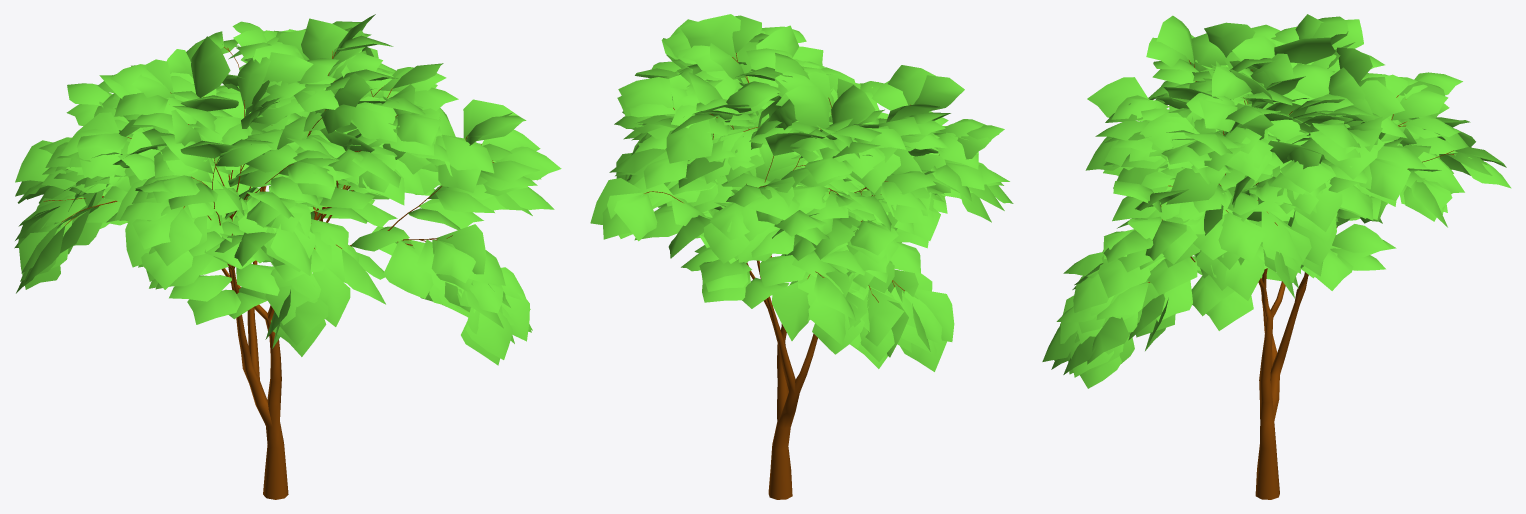
The model's file is colored_tree.glb.
3 renders of one model, left to right at view 1: azimuth 30°, elevation 25°; view 2: azimuth 150°, elevation 25°; view 3: azimuth 270°, elevation 25°, orthographic. The views are drawn at different scales.
Visible parts, largest first — view 1: Tree_polySurface1 g1 g2 polySurface1, Tree_polySurface1 g1 polySurface1; view 2: Tree_polySurface1 g1 g2 polySurface1, Tree_polySurface1 g1 polySurface1; view 3: Tree_polySurface1 g1 g2 polySurface1, Tree_polySurface1 g1 polySurface1.
Part boxes in pixels (x1,y1,x2,y2): Tree_polySurface1 g1 g2 polySurface1: (14, 14, 561, 365); Tree_polySurface1 g1 polySurface1: (43, 47, 493, 499); Tree_polySurface1 g1 g2 polySurface1: (590, 14, 1013, 371); Tree_polySurface1 g1 polySurface1: (644, 53, 910, 499); Tree_polySurface1 g1 g2 polySurface1: (1042, 14, 1511, 388); Tree_polySurface1 g1 polySurface1: (1148, 60, 1453, 499).
Size of the model in its own units: 3.63 by 3.82 by 3.55.
